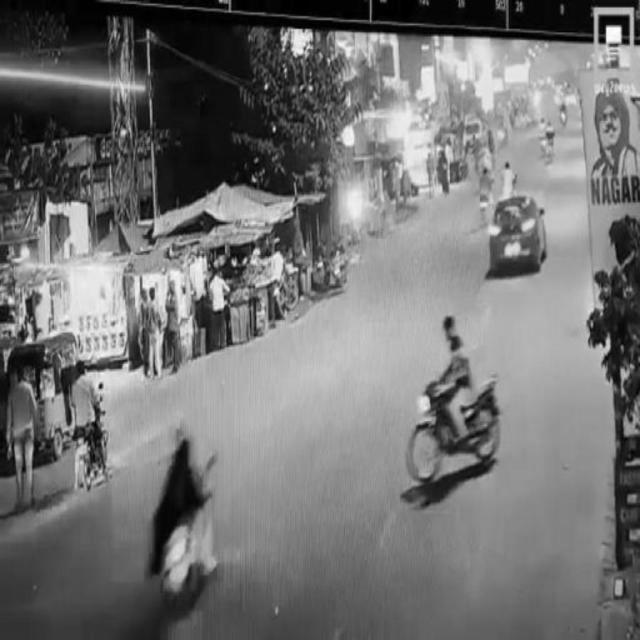person: (5, 376, 39, 517), (145, 284, 163, 372)
vehicle: (403, 308, 504, 484), (154, 418, 224, 604), (13, 330, 81, 460), (66, 354, 113, 498), (485, 189, 549, 277)
